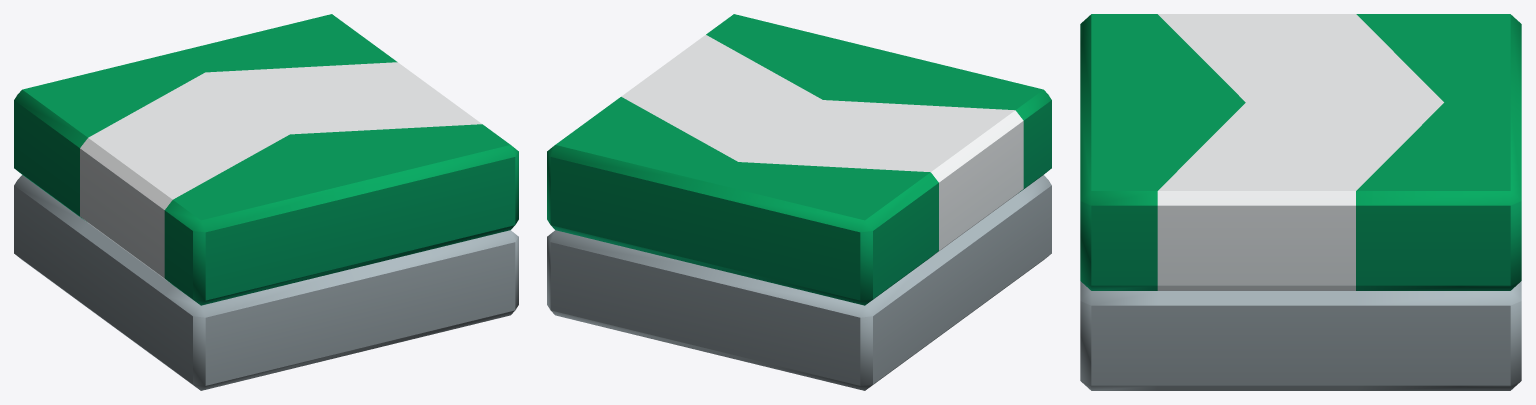
The model's file is platform_arrow_2x2x1_green.glb.
3 views of the same model, side by side, from view 1: azimuth 30°, elevation 25°; view 2: azimuth 150°, elevation 25°; view 3: azimuth 270°, elevation 25° (orthographic). The views are drawn at different scales.
Parts seen in each view (by area): view 1: platform_arrow_2x2x1_green; view 2: platform_arrow_2x2x1_green; view 3: platform_arrow_2x2x1_green.
Boxes of the visible parts, x1,y1,x2,y2 form: platform_arrow_2x2x1_green: (14,14,518,390); platform_arrow_2x2x1_green: (547,14,1051,390); platform_arrow_2x2x1_green: (1080,14,1521,390).
Size of the model in its own units: 2 by 1 by 2.
1 material, 1 textured.
